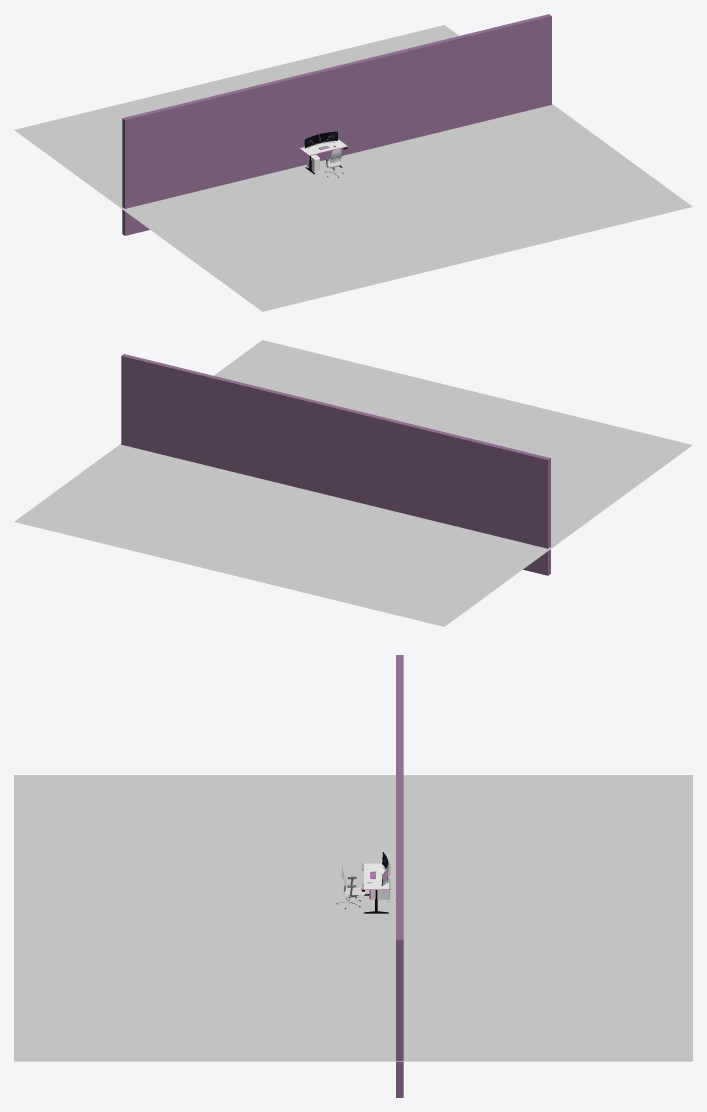
The model's file is officeDeskFinal.glb.
3 renders of one model, top to bottom at view 1: azimuth 30°, elevation 25°; view 2: azimuth 150°, elevation 25°; view 3: azimuth 270°, elevation 25°, orthographic. The views are drawn at different scales.
Parts seen in each view (by area): view 1: Plane, Cube, Escritorio-pc-Teclado-Pantalla-mouse; view 2: Plane, Cube; view 3: Plane, Cube, Escritorio-pc-Teclado-Pantalla-mouse.
Boxes of the visible parts, x1=… form: Plane: x1=14, y1=25, x2=692, y2=311; Cube: x1=122, y1=14, x2=551, y2=235; Escritorio-pc-Teclado-Pantalla-mouse: x1=299, y1=131, x2=348, y2=174; Plane: x1=14, y1=340, x2=692, y2=626; Cube: x1=121, y1=354, x2=550, y2=575; Plane: x1=14, y1=775, x2=692, y2=1061; Cube: x1=396, y1=655, x2=403, y2=1097; Escritorio-pc-Teclado-Pantalla-mouse: x1=361, y1=852, x2=395, y2=913.
Bounding box in the file's own units: 123 × 31.57 × 123.
30 materials, 1 textured.
